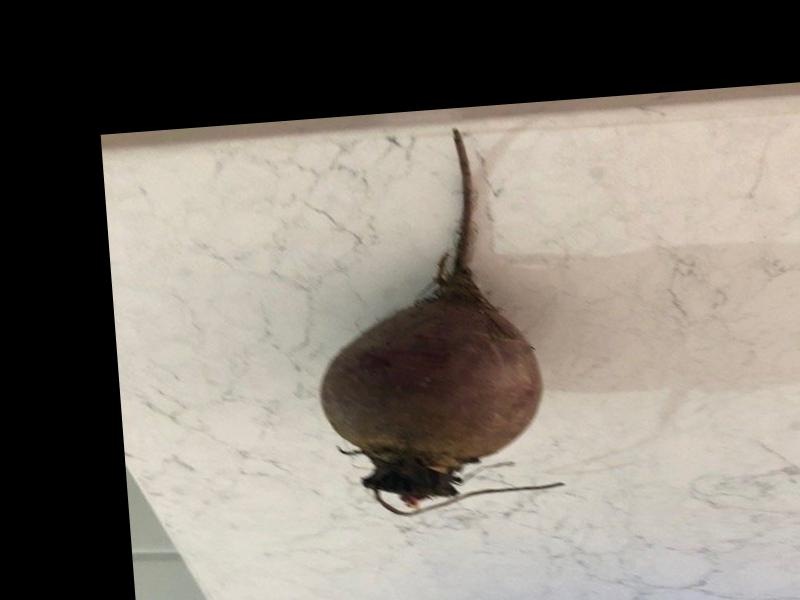Beet: (303, 122, 567, 523)
